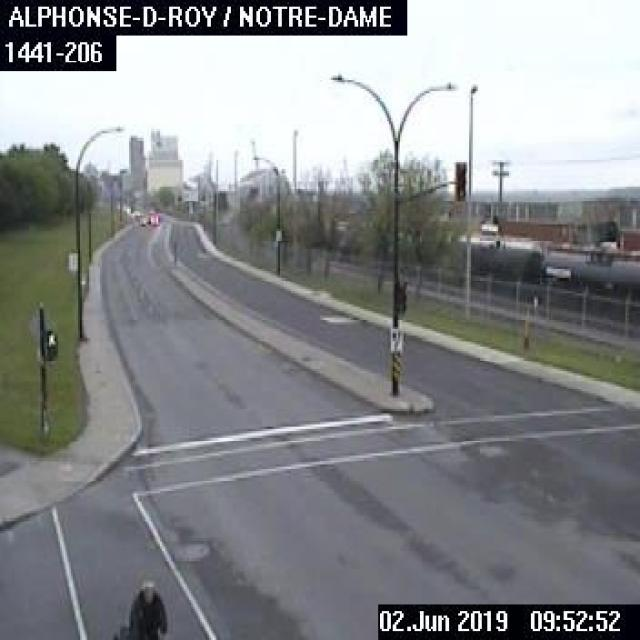pedestrian: (124, 578, 167, 638)
vehicle: (138, 211, 158, 227)
